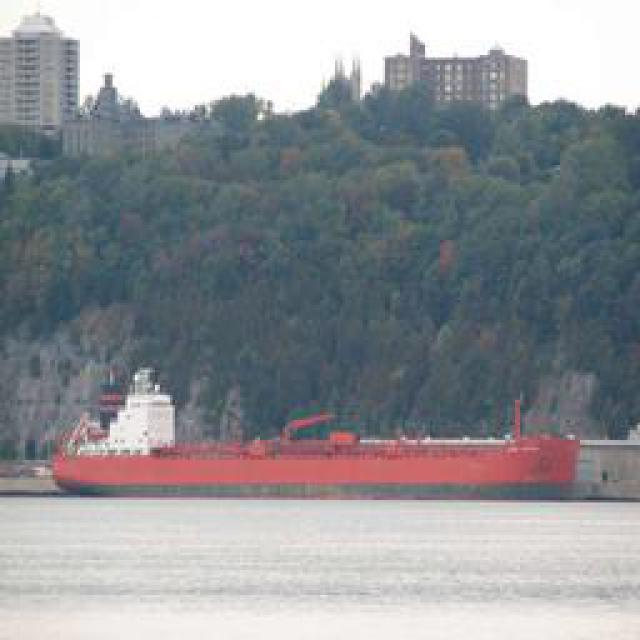Ship: (54, 400, 587, 500)
